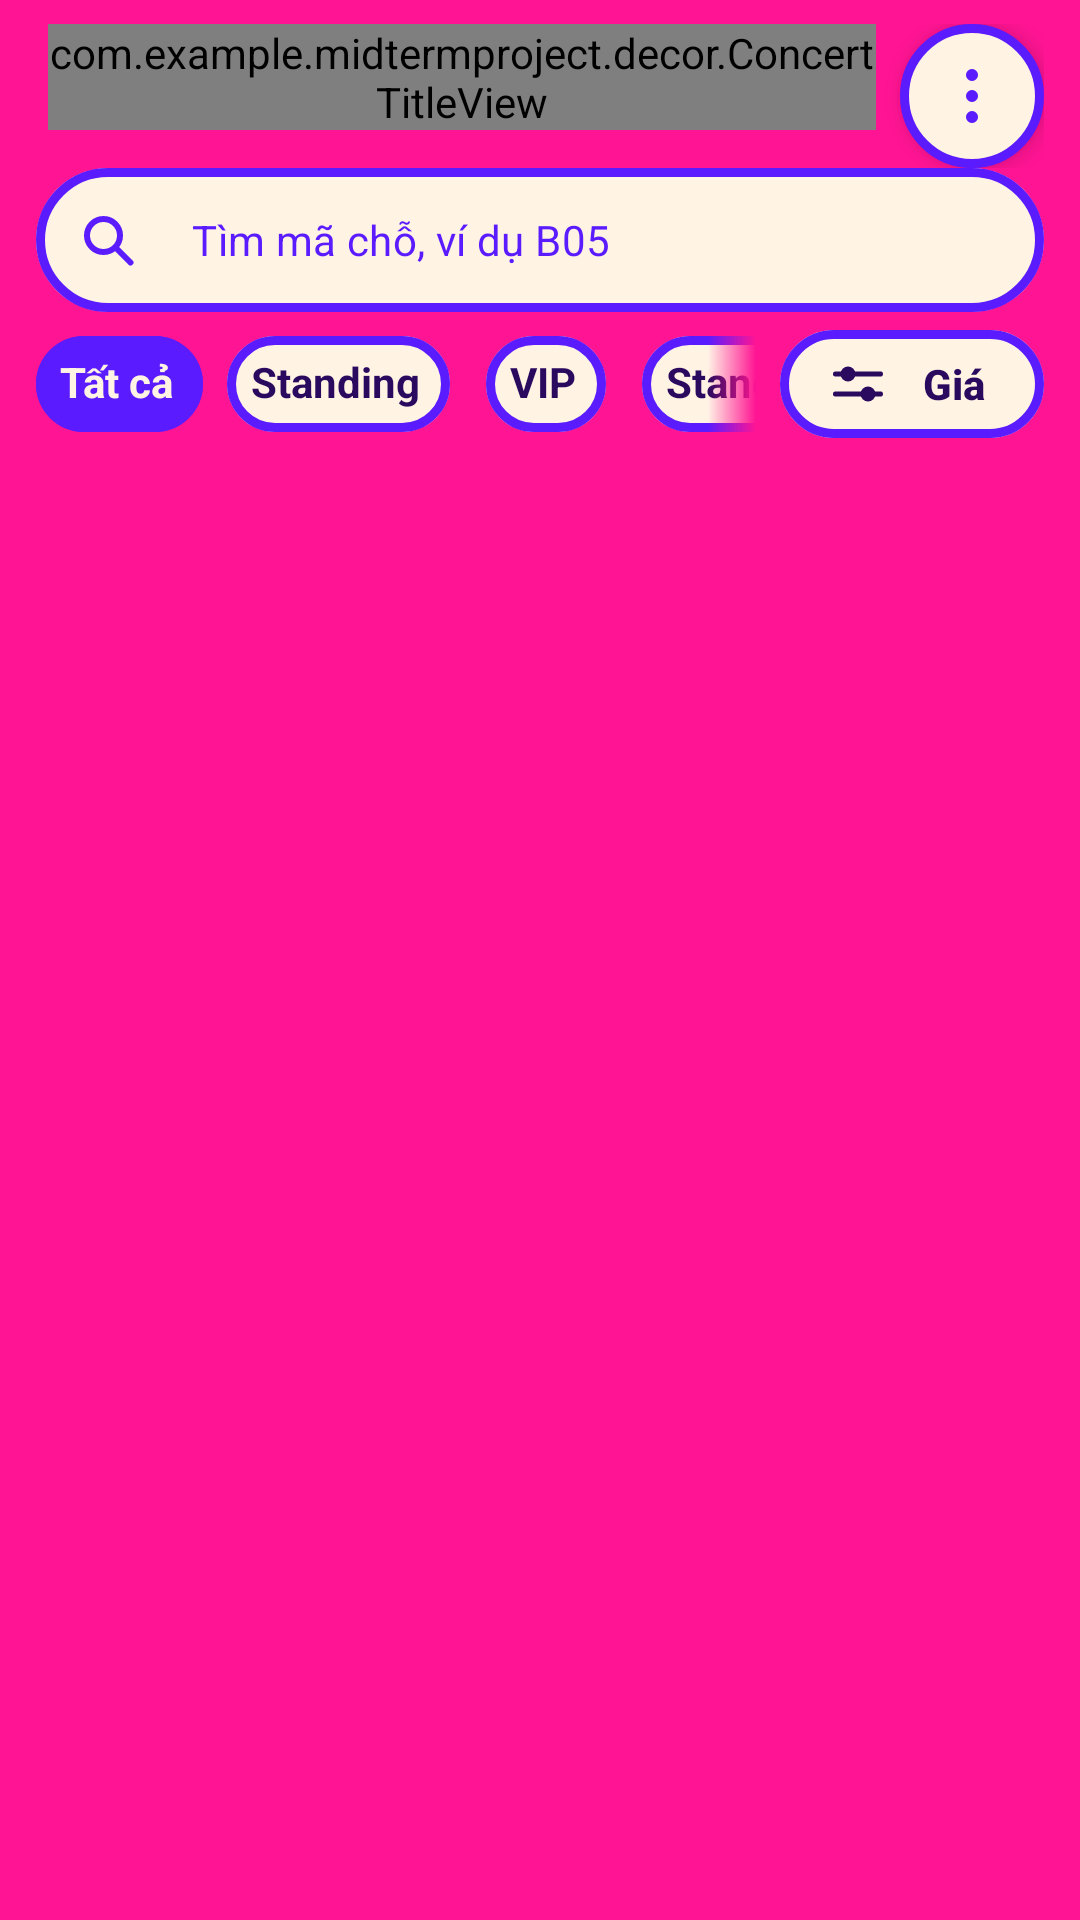

Icon click points for this 1080px×1920px phone screenshot, format point (x, y):
Thêm tùy chọn: point (972, 96)
